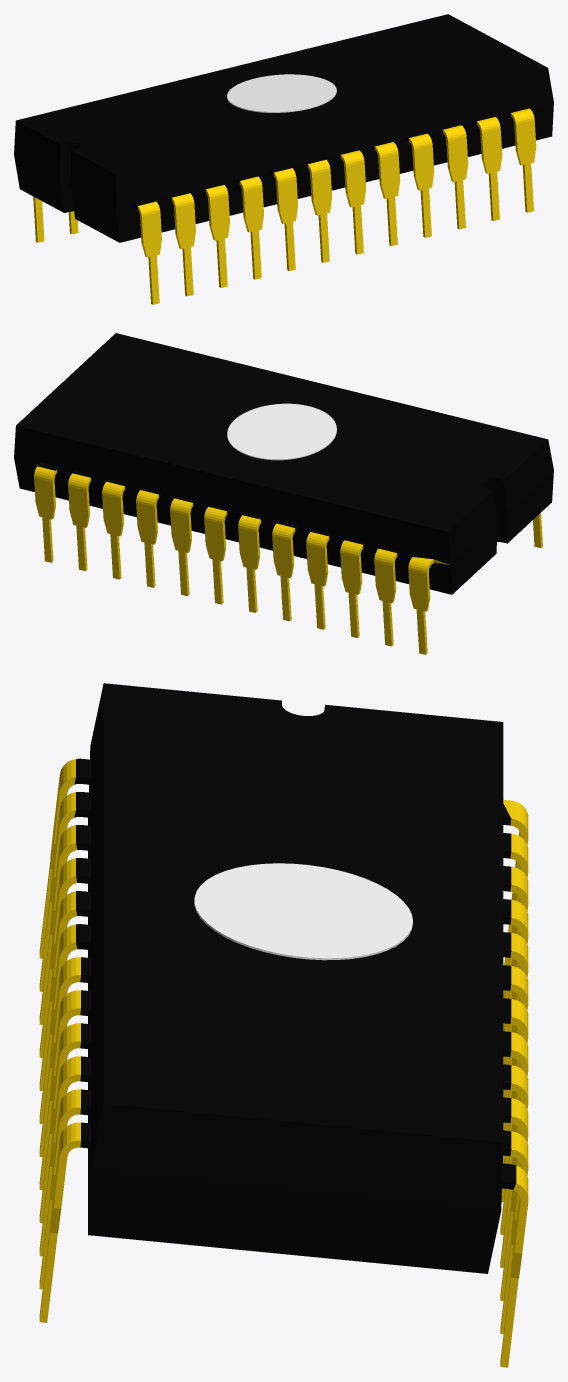
3 renders of one model, top to bottom at view 1: azimuth 30°, elevation 25°; view 2: azimuth 150°, elevation 25°; view 3: azimuth 270°, elevation 25°, orthographic. The views are drawn at different scales.
Parts seen in each view (by area): view 1: IC; view 2: IC; view 3: IC.
Boxes of the visible parts, x1=… form: IC: x1=14, y1=14, x2=553, y2=304; IC: x1=14, y1=333, x2=553, y2=654; IC: x1=39, y1=683, x2=528, y2=1367.
Bounding box in the file's own units: 326 × 105 × 158.
